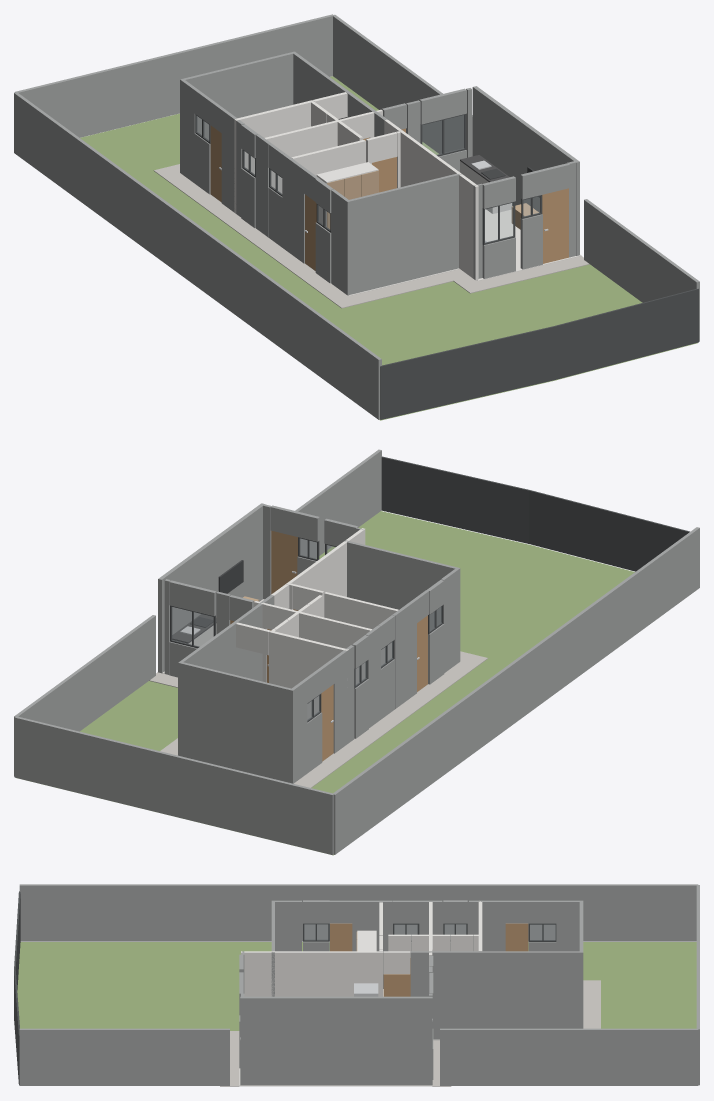
Rendered from casa.glb.
3 renders of one model, top to bottom at view 1: azimuth 30°, elevation 25°; view 2: azimuth 150°, elevation 25°; view 3: azimuth 270°, elevation 25°, orthographic. The views are drawn at different scales.
Visible parts, largest first — view 1: fachada, grama, esquadria, parede, concreto, vidro, door8_swing__porta, madeira, piso, armario, door4_swing__porta, door3_swing__porta; view 2: fachada, grama, esquadria, parede, concreto, vidro, door8_swing__porta, door4_swing__porta, door3_swing__porta, preto; view 3: fachada, grama, parede, concreto, esquadria, vidro, door4_swing__porta, door3_swing__porta, door2_swing__porta, piso, armario, inox.
Boxes of the visible parts, x1,y1,x2,y2 form: fachada: (14, 14, 699, 419); grama: (80, 76, 697, 420); esquadria: (195, 114, 698, 419); parede: (234, 92, 478, 280); concreto: (153, 164, 589, 308); vidro: (196, 115, 540, 242); door8_swing__porta: (542, 188, 568, 263); madeira: (327, 170, 538, 229); piso: (210, 194, 581, 295); armario: (316, 161, 511, 226); door4_swing__porta: (210, 125, 221, 201); door3_swing__porta: (305, 194, 316, 270); fachada: (14, 449, 699, 854); grama: (16, 511, 634, 855); esquadria: (170, 456, 689, 722); parede: (236, 528, 398, 719); concreto: (149, 651, 487, 787); vidro: (172, 538, 441, 719); door8_swing__porta: (271, 530, 297, 594); door4_swing__porta: (321, 684, 333, 761); door3_swing__porta: (417, 615, 427, 691); preto: (190, 560, 243, 627); fachada: (19, 884, 699, 1085); grama: (17, 942, 696, 1030); parede: (241, 901, 482, 996); concreto: (220, 980, 600, 1086); esquadria: (14, 891, 556, 1085); vidro: (304, 924, 555, 940); door4_swing__porta: (505, 923, 528, 951); door3_swing__porta: (330, 923, 352, 951); door2_swing__porta: (383, 974, 409, 996); piso: (239, 989, 439, 1086); armario: (357, 930, 376, 951); inox: (354, 983, 378, 996).
Size of the model in its own units: 10.07 by 2.83 by 20.04.
